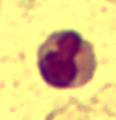eosi: (34, 23, 99, 90)
